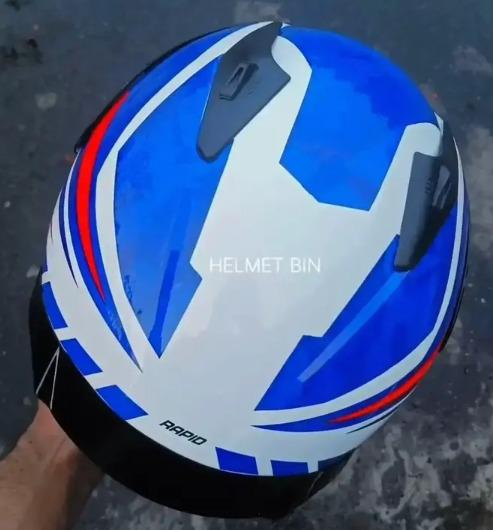Helmet: (31, 6, 485, 516)
